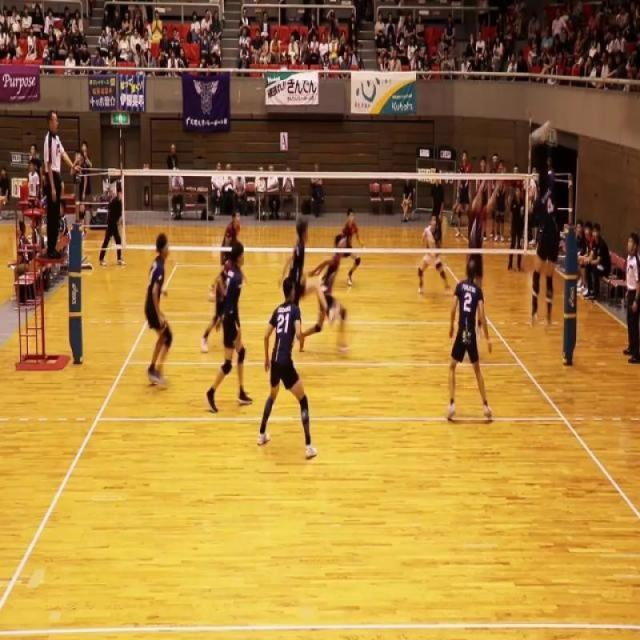volleyball: (530, 120, 551, 146)
